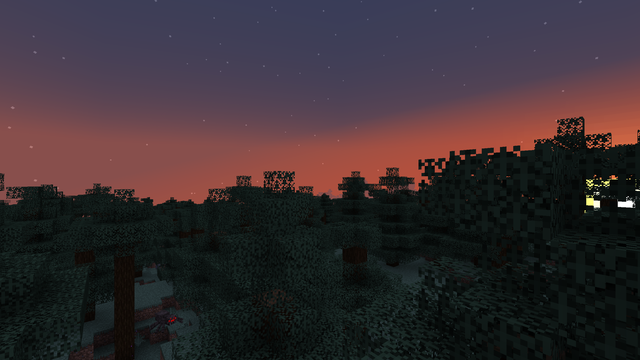araignees: (154, 306, 179, 333)
